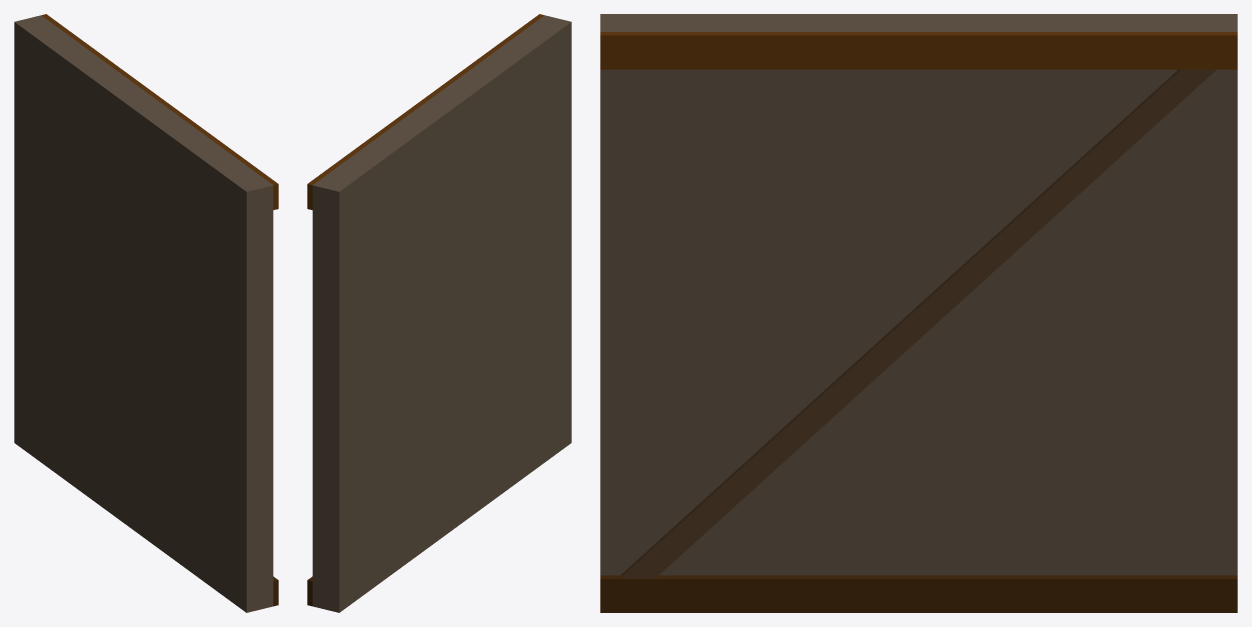
Rendered from Wall_4.fbx.
The picture shows the model from 3 angles, left to right: view 1: azimuth 30°, elevation 25°; view 2: azimuth 150°, elevation 25°; view 3: azimuth 270°, elevation 25°; orthographic projection. The views are drawn at different scales.
Visible parts, largest first — view 1: Wall_4; view 2: Wall_4; view 3: Wall_4.
Boxes of the visible parts, bbox=[...] form: Wall_4: bbox=[14, 14, 278, 612]; Wall_4: bbox=[307, 14, 571, 612]; Wall_4: bbox=[600, 14, 1237, 612].
Bounding box in the file's own units: 0.2392 × 3 × 3.
